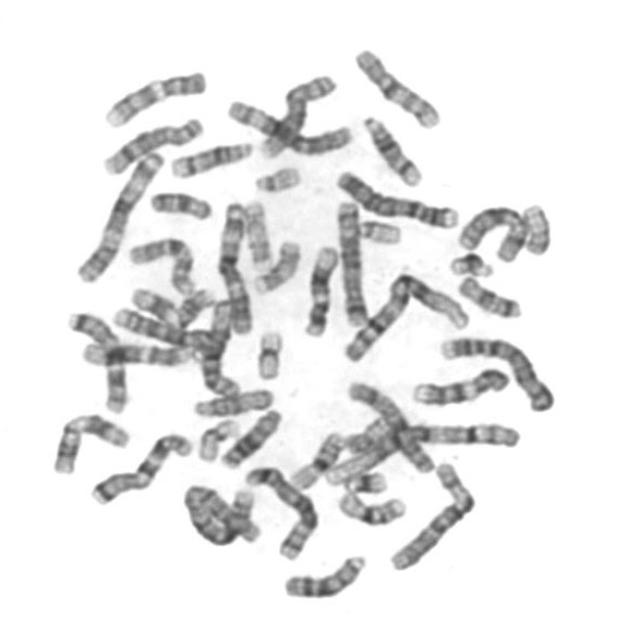A1: (321, 413, 524, 488), (335, 264, 474, 364)
A2: (111, 306, 242, 401), (176, 476, 264, 549)
A3: (70, 143, 168, 284), (212, 195, 256, 336)
B4: (434, 328, 558, 414), (330, 163, 462, 231)
B5: (238, 459, 322, 562), (328, 192, 371, 327)
C10: (348, 40, 445, 131), (122, 229, 201, 296)
C11: (45, 406, 133, 476), (124, 280, 217, 328)
C12: (297, 240, 341, 338), (76, 335, 198, 369)
C6: (384, 455, 478, 572), (219, 91, 357, 157)
C7: (84, 425, 195, 507), (59, 303, 131, 416)
C8: (253, 66, 341, 160), (95, 110, 207, 176)
C9: (97, 63, 209, 129), (406, 360, 514, 408)
D13: (212, 401, 286, 470), (276, 547, 370, 601)
D14: (356, 107, 426, 188), (164, 133, 256, 180)
D15: (196, 296, 240, 384), (185, 380, 277, 419)
E16: (283, 424, 349, 491), (330, 484, 410, 528)
E17: (247, 233, 304, 296), (239, 193, 276, 270)
E18: (452, 268, 526, 320), (144, 183, 215, 222)
F19: (192, 412, 243, 464), (248, 322, 286, 381)
F20: (517, 197, 555, 258), (340, 412, 390, 456)
G21: (443, 245, 497, 279), (336, 462, 390, 495)
G22: (248, 158, 306, 194), (352, 213, 406, 246)
X: (342, 373, 439, 478), (450, 197, 532, 264)
